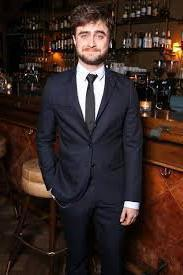Drunk: (74, 20, 108, 62)
